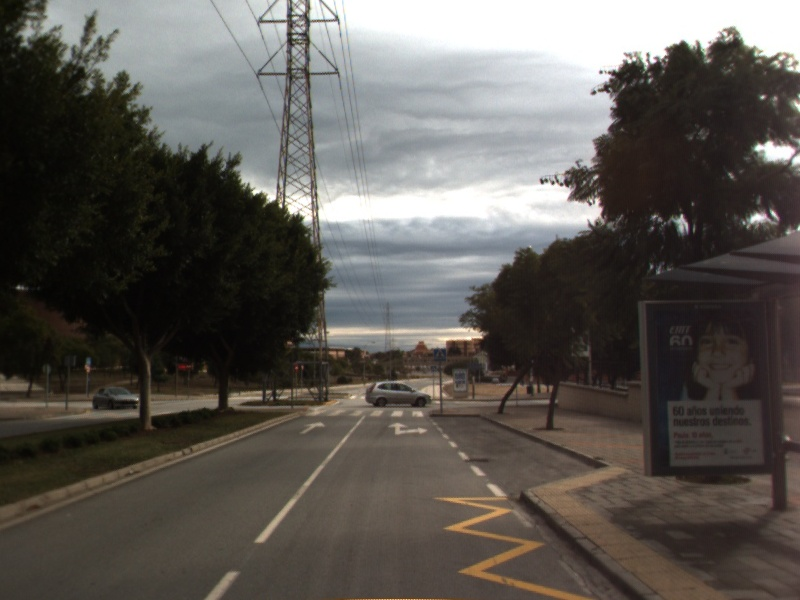STRAIGHT: (297, 419, 328, 436)
STRAIGHT_RIGHT: (386, 420, 430, 437)
